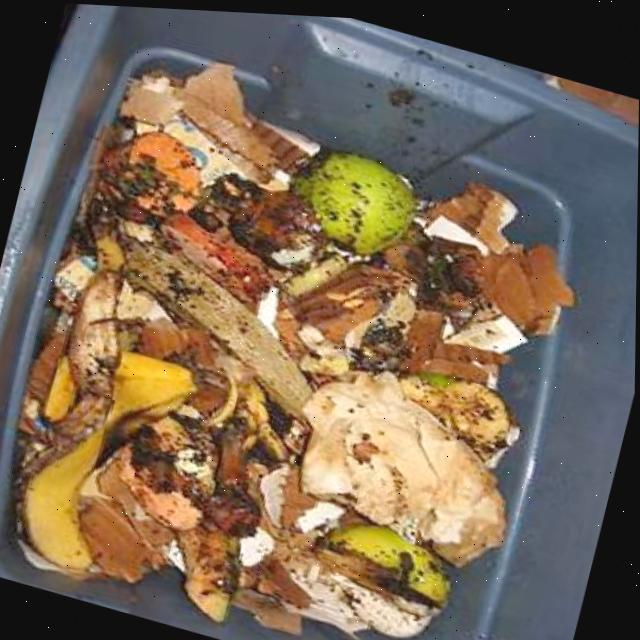Garbage: (18, 59, 577, 632)
